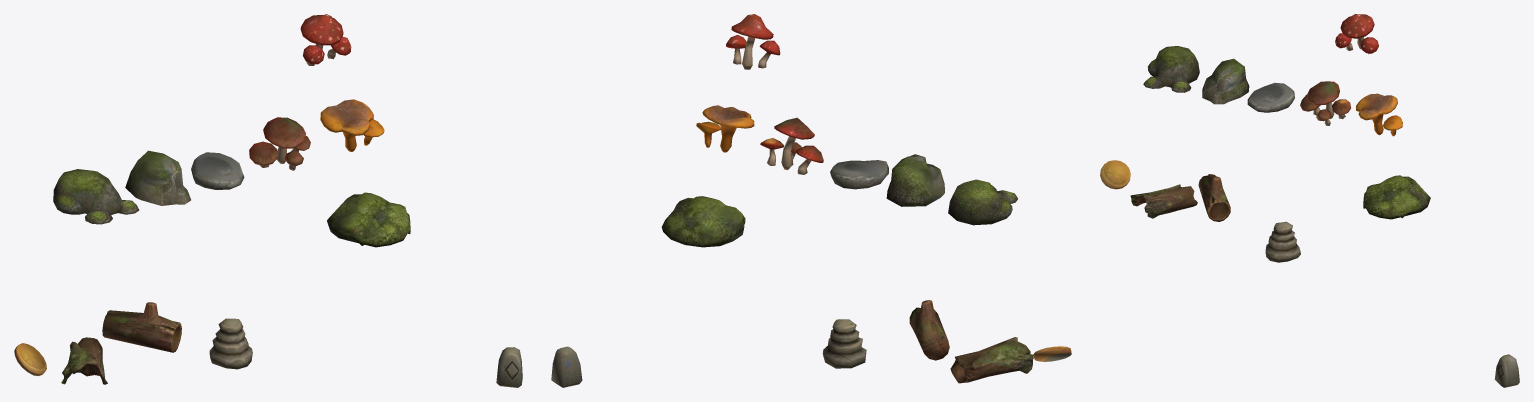
File: floorpieces.glb
3 renders of one model, left to right at view 1: azimuth 30°, elevation 25°; view 2: azimuth 150°, elevation 25°; view 3: azimuth 330°, elevation 25°, orthographic. The views are drawn at different scales.
Visible parts, largest first — view 1: stone4, stone1, wood2, stone2, mushroom4, mushroom5, mushroom1, stone5, stone3, wood1, stone, coin; view 2: stone4, wood1, stone1, stone2, mushroom4, mushroom1, stone5, wood2, mushroom5, stone3, stone, coin; view 3: stone4, stone1, stone2, wood1, mushroom4, mushroom5, mushroom1, stone3, stone5, wood2, coin, stone.
Part boxes in pixels (<box>): stone4: <box>327,192,410,247</box>; stone1: <box>53,169,139,224</box>; wood2: <box>102,302,181,352</box>; stone2: <box>125,150,190,205</box>; mushroom4: <box>249,117,310,170</box>; mushroom5: <box>320,99,384,151</box>; mushroom1: <box>300,14,351,65</box>; stone5: <box>209,318,252,369</box>; stone3: <box>191,152,244,189</box>; wood1: <box>61,337,107,384</box>; stone: <box>496,347,522,387</box>; coin: <box>14,343,46,376</box>; stone4: <box>661,196,745,247</box>; wood1: <box>950,337,1033,383</box>; stone1: <box>948,179,1017,225</box>; stone2: <box>886,154,944,206</box>; mushroom4: <box>760,117,823,174</box>; mushroom1: <box>726,14,780,69</box>; stone5: <box>822,319,866,368</box>; wood2: <box>909,300,949,360</box>; mushroom5: <box>696,105,754,152</box>; stone3: <box>830,160,888,189</box>; stone: <box>551,346,582,387</box>; coin: <box>1033,346,1071,361</box>; stone4: <box>1363,175,1430,219</box>; stone1: <box>1143,46,1199,92</box>; stone2: <box>1202,58,1249,104</box>; wood1: <box>1130,184,1197,218</box>; mushroom4: <box>1300,81,1350,125</box>; mushroom5: <box>1356,93,1402,136</box>; mushroom1: <box>1335,14,1378,54</box>; stone3: <box>1247,82,1294,112</box>; stone5: <box>1265,221,1300,262</box>; wood2: <box>1198,174,1230,221</box>; coin: <box>1100,160,1130,189</box>; stone: <box>1494,354,1519,387</box>.
Bounding box in the file's own units: 1.08 × 0.832 × 0.1593.
1 material, 1 textured.
